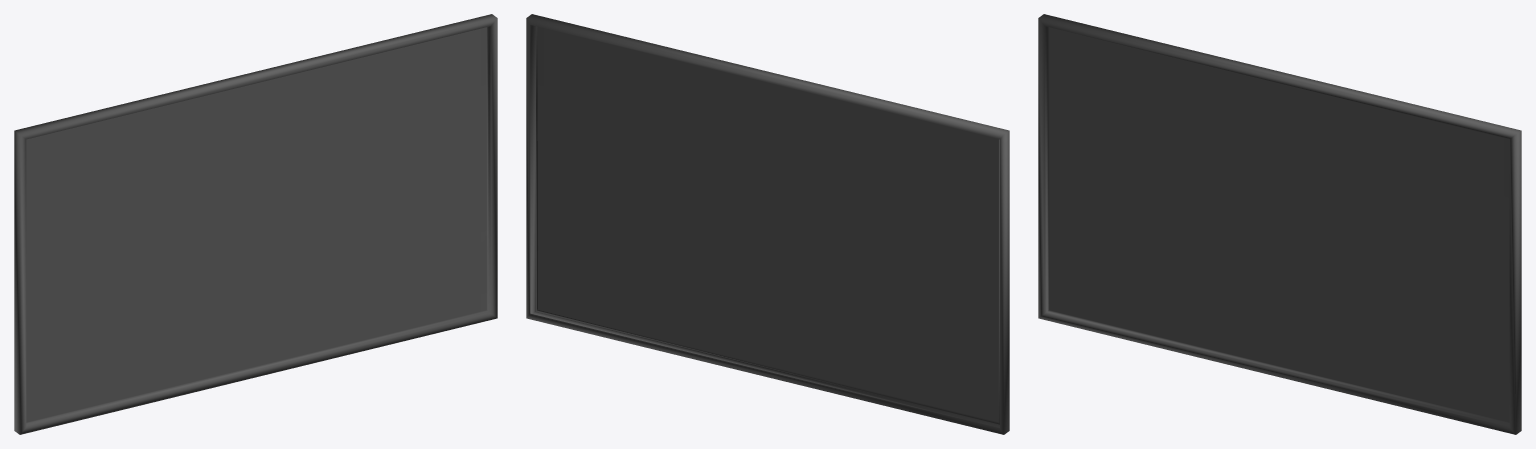
The picture shows the model from 3 angles, left to right: view 1: azimuth 30°, elevation 25°; view 2: azimuth 150°, elevation 25°; view 3: azimuth 330°, elevation 25°; orthographic projection.
Parts seen in each view (by area): view 1: tv.002_details_0; view 2: tv.002_details_0; view 3: tv.002_details_0.
Boxes of the visible parts, bbox=[...] form: tv.002_details_0: bbox=[14, 14, 497, 434]; tv.002_details_0: bbox=[526, 14, 1009, 434]; tv.002_details_0: bbox=[1038, 14, 1521, 434].
Size of the model in its own units: 1.7 by 1.02 by 0.0349.
Materials: 1 (1 with a texture image).
